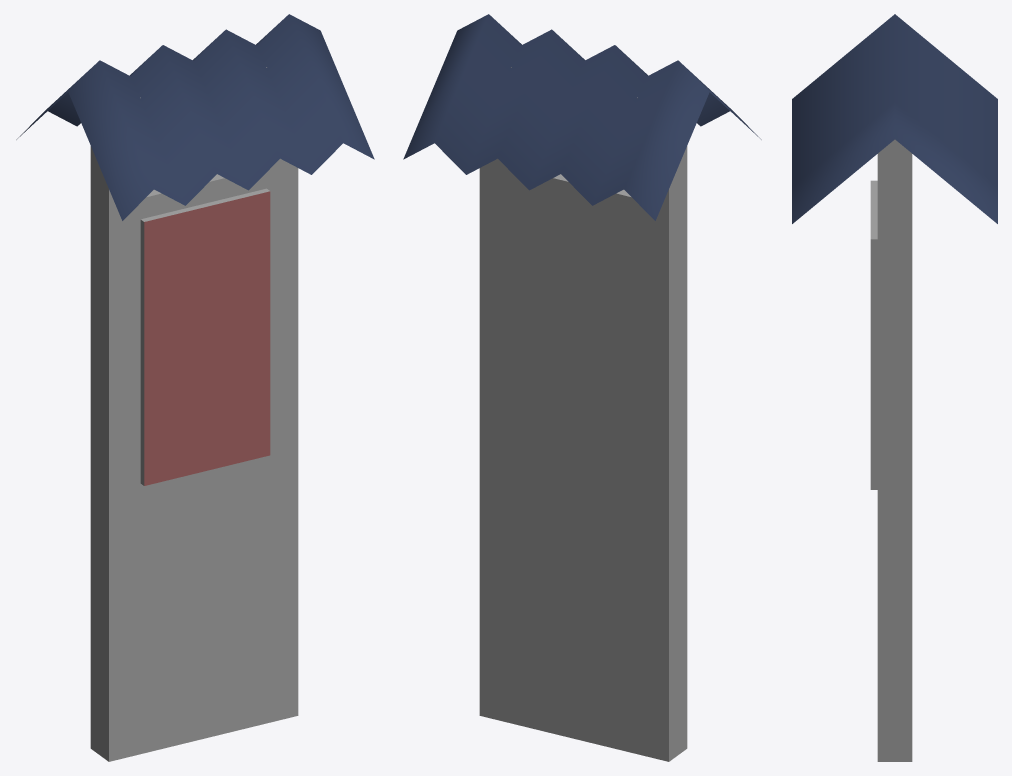
Rendered from Sign02.fbx.
3 renders of one model, left to right at view 1: azimuth 30°, elevation 25°; view 2: azimuth 150°, elevation 25°; view 3: azimuth 270°, elevation 25°, orthographic. The views are drawn at different scales.
Parts seen in each view (by area): view 1: Sign02_GEO; view 2: Sign02_GEO; view 3: Sign02_GEO.
Boxes of the visible parts, bbox=[...] form: Sign02_GEO: bbox=[16, 14, 374, 761]; Sign02_GEO: bbox=[403, 14, 761, 761]; Sign02_GEO: bbox=[792, 14, 997, 761].
Size of the model in its own units: 40 by 105 by 29.75.
